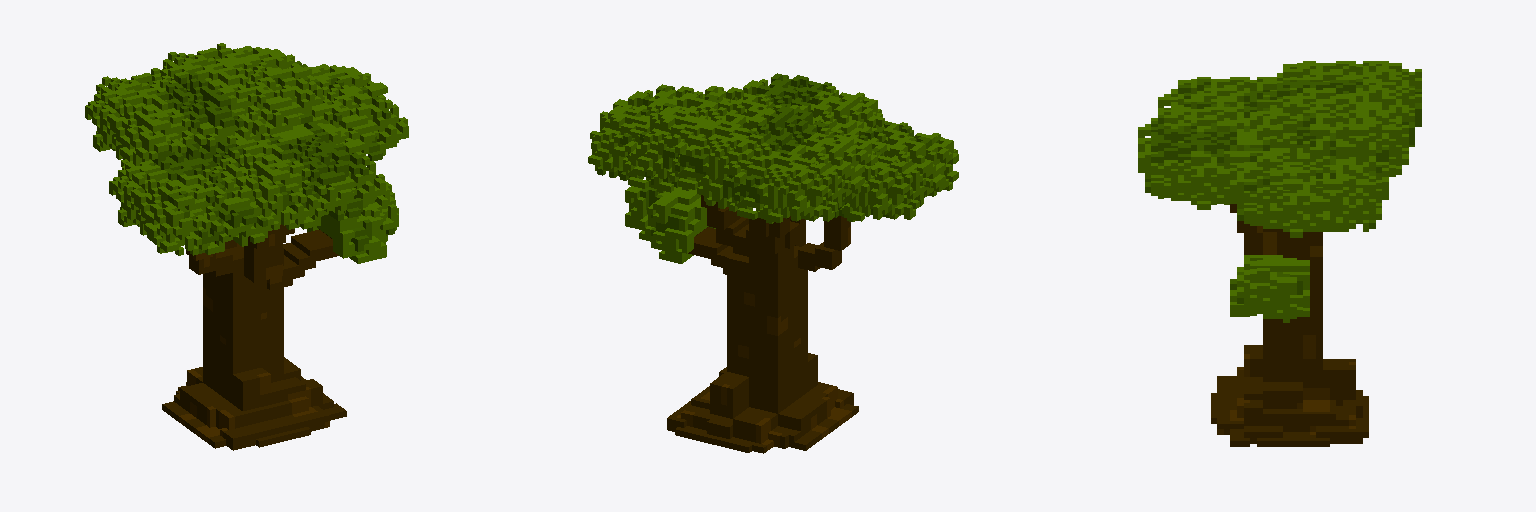
3 renders of one model, left to right at view 1: azimuth 30°, elevation 25°; view 2: azimuth 150°, elevation 25°; view 3: azimuth 270°, elevation 25°, orthographic.
Parts seen in each view (by area): view 1: object 1; view 2: object 1; view 3: object 1.
Boxes of the visible parts, x1=… form: object 1: x1=85, y1=43, x2=408, y2=450; object 1: x1=588, y1=73, x2=958, y2=453; object 1: x1=1138, y1=61, x2=1421, y2=446.
Bounding box in the file's own units: 4.9 × 5.3 × 4.3.
1 materials, 1 textured.